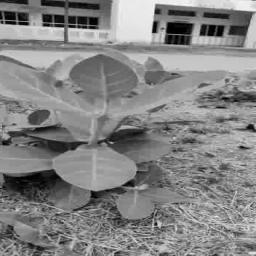CALOTROPIS: (2, 47, 226, 203)
